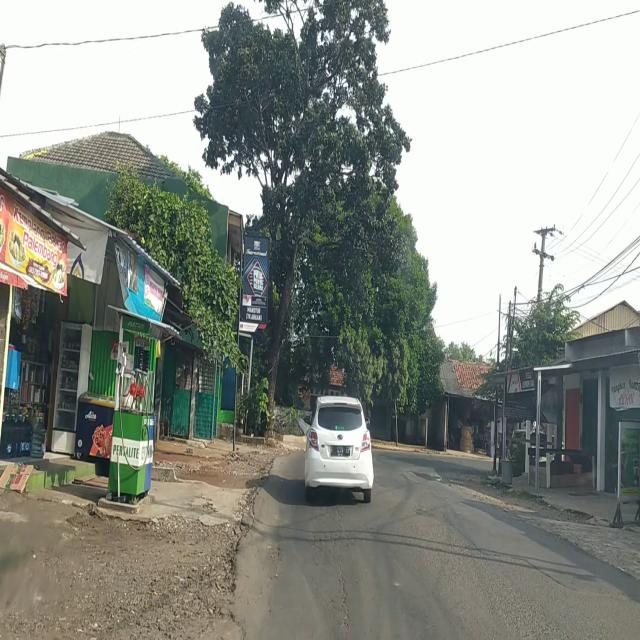Drain Hole: (304, 503, 358, 632), (268, 531, 286, 591)
